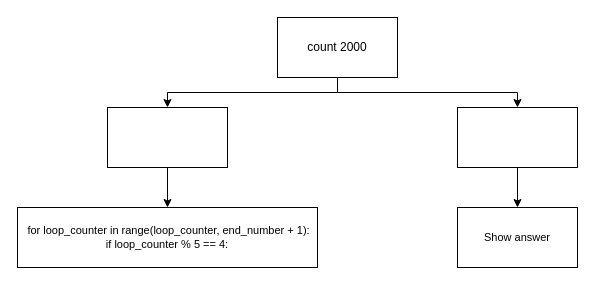
Image size: 595x285. Some labels were removed from this diagram. The box of each missing label's shape, as (x1, y1, x2, y2) in pixels:
Output: (456, 106, 578, 168)
Process: (106, 106, 228, 168)
